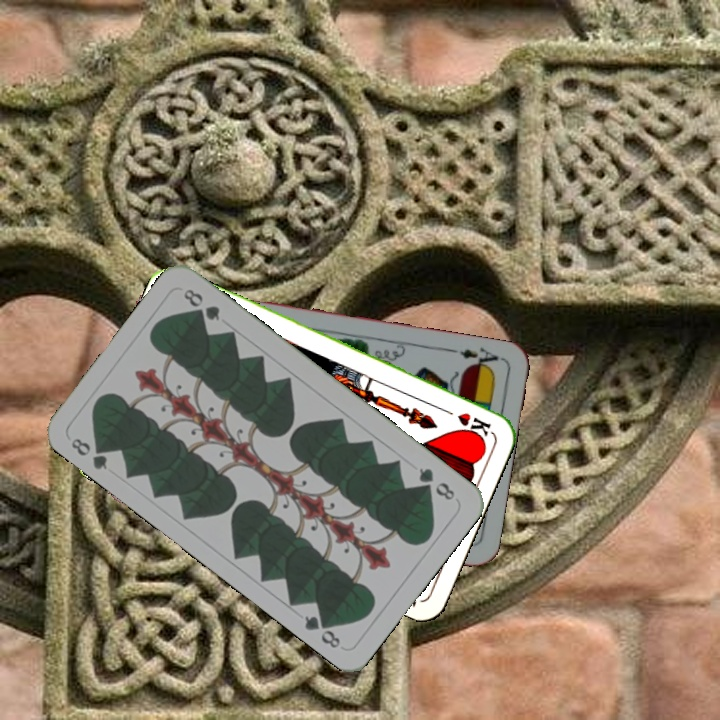EA: (445, 343, 504, 373)
G8: (414, 463, 458, 503), (67, 434, 112, 472)
HK: (436, 403, 494, 439)
